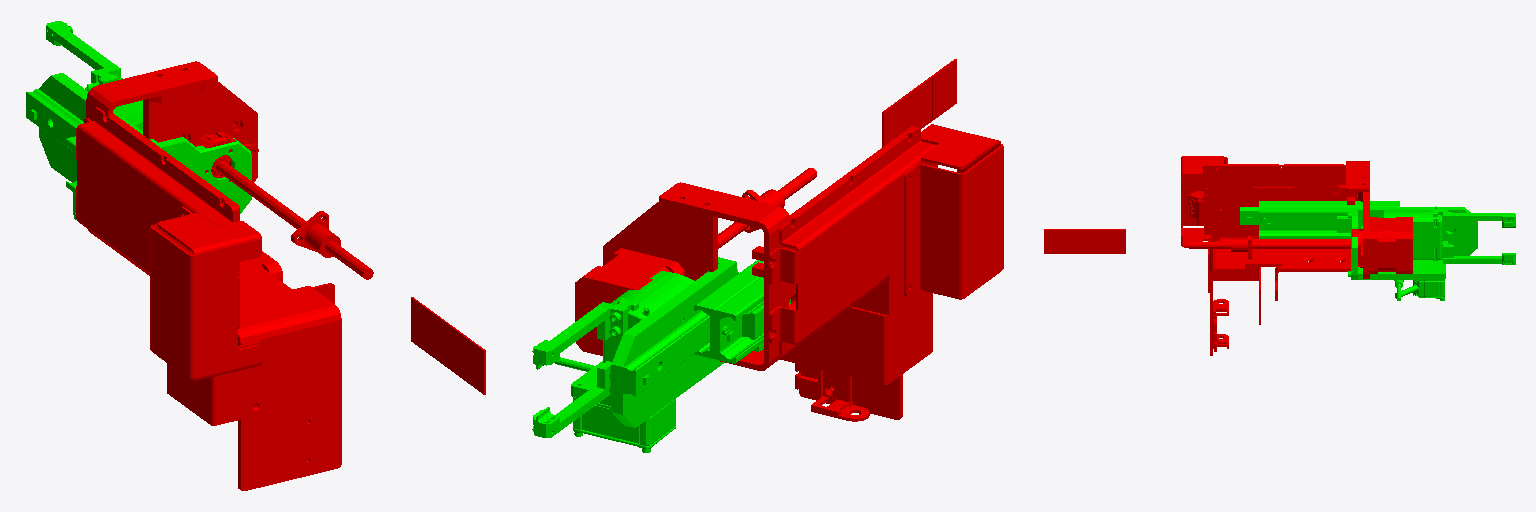
The robot description file, URDF, robot "410-00207_RS":
<?xml version="1.0" encoding="utf-8"?>
<!-- This URDF was automatically created by SolidWorks to URDF Exporter! Originally created by [author] ([email redacted]) 
     Commit Version: 1.6.0-1-g15f4949  Build Version: 1.6.7594.29634
     For more information, please see http://wiki.ros.org/sw_urdf_exporter -->
<robot
  name="410-00207_RS">
  <link
    name="base_link">
    <inertial>
      <origin
        xyz="-0.0015012 0.018116 -0.028712"
        rpy="0 0 0" />
      <mass
        value="0.43274" />
      <inertia
        ixx="0.0011133"
        ixy="0.00010395"
        ixz="-3.7392E-05"
        iyy="0.00082759"
        iyz="0.00024239"
        izz="0.00059614" />
    </inertial>
    <visual>
      <origin
        xyz="0 0 0"
        rpy="0 0 0" />
      <geometry>
        <mesh
          filename="package://end_effector_slide_gantry/meshes/base_link.STL" />
      </geometry>
      <material
        name="">
        <color
          rgba="1 0 0 1" />
      </material>
    </visual>
    <collision>
      <origin
        xyz="0 0 0"
        rpy="0 0 0" />
      <geometry>
        <mesh
          filename="package://end_effector_slide_gantry/meshes/base_link.STL" />
      </geometry>
    </collision>
  </link>

  <link
    name="link1">
    <inertial>
      <origin
        xyz="0.0089428 0.096845 0.0033173"
        rpy="0 0 0" />
      <mass
        value="0.39498" />
      <inertia
        ixx="0.00037392"
        ixy="8.2292E-06"
        ixz="-1.7511E-05"
        iyy="0.00010627"
        iyz="6.9982E-06"
        izz="0.00038766" />
    </inertial>
    <visual>
      <origin
        xyz="0 0 0"
        rpy="0 0 0" />
      <geometry>
        <mesh
          filename="package://end_effector_slide_gantry/meshes/link1.STL" />
      </geometry>
      <material
        name="green">
        <color
          rgba="0 1 0 1" />
      </material>
    </visual>
    <collision>
      <origin
        xyz="0 0 0"
        rpy="0 0 0" />
      <geometry>
        <mesh
          filename="package://end_effector_slide_gantry/meshes/link1.STL" />
      </geometry>
    </collision>
  </link>
  <joint
    name="joint1"
    type="prismatic">
    <origin
      xyz="0.003 0.028279 0.02625"
      rpy="0 1.5708 0" />
    <parent
      link="base_link" />
    <child
      link="link1" />
    <axis
      xyz="0 0 0" />
    <limit
      lower="0"
      upper="0"
      effort="0"
      velocity="0" />
  </joint>
</robot>

--- Render facts (derived) ---
Views: 3 orthographic renders of the robot side by side, from view 1: azimuth 30°, elevation 25°; view 2: azimuth 150°, elevation 25°; view 3: azimuth 270°, elevation 25°.
Robot: 410-00207_RS — 2 links, 1 joints (1 prismatic); root link base_link; default pose: every joint at zero.
Links seen in each view (by area): view 1: base_link, link1; view 2: base_link, link1; view 3: base_link, link1.
Link boxes in pixels (x1,y1,x2,y2): base_link: [76, 61, 485, 490]; link1: [26, 21, 251, 219]; base_link: [575, 59, 1003, 421]; link1: [532, 257, 790, 452]; base_link: [1044, 156, 1412, 355]; link1: [1240, 201, 1515, 300].
Bounding box of the posed robot: 0.1495 × 0.4353 × 0.1711 m (x, y, z).
Meshes: 2 distinct files referenced, 2 mesh visuals loaded (2 binary STL).
